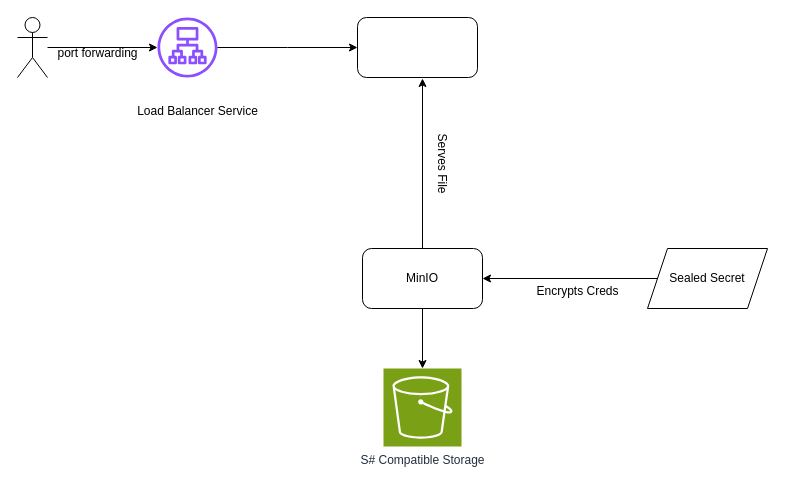
The diagram is 785 pixels wide and 485 high, and some of its shapes have lost their labels. The centre of each missing label's shape, as x and y in pixels:
"Actor" belongs at point (32, 47).
"s3www service" belongs at point (417, 47).
